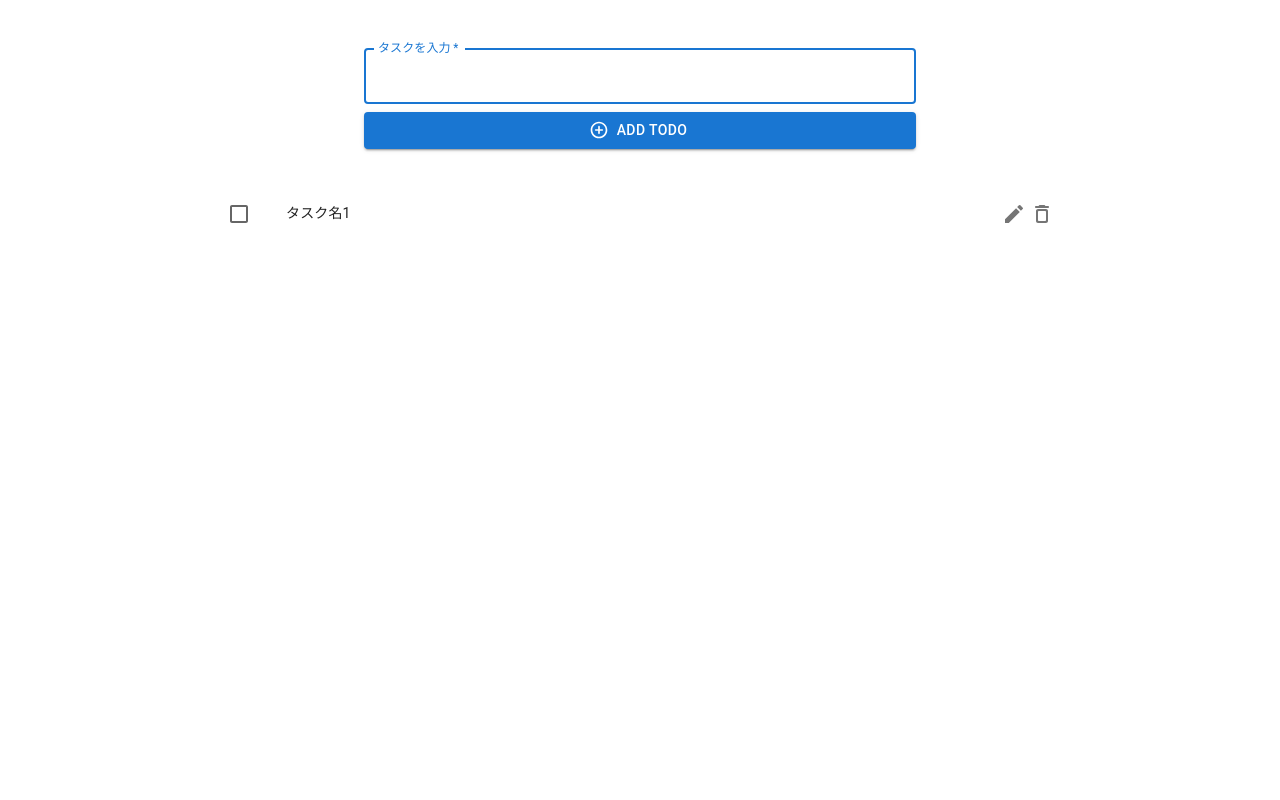
Test: <TodoList /> › タスクの更新
Expected: the text "タスク名1" is shown, 286,206 -> 351,222
Click the button named "Edit": coordinates (1014, 214) 994,194 -> 1034,234
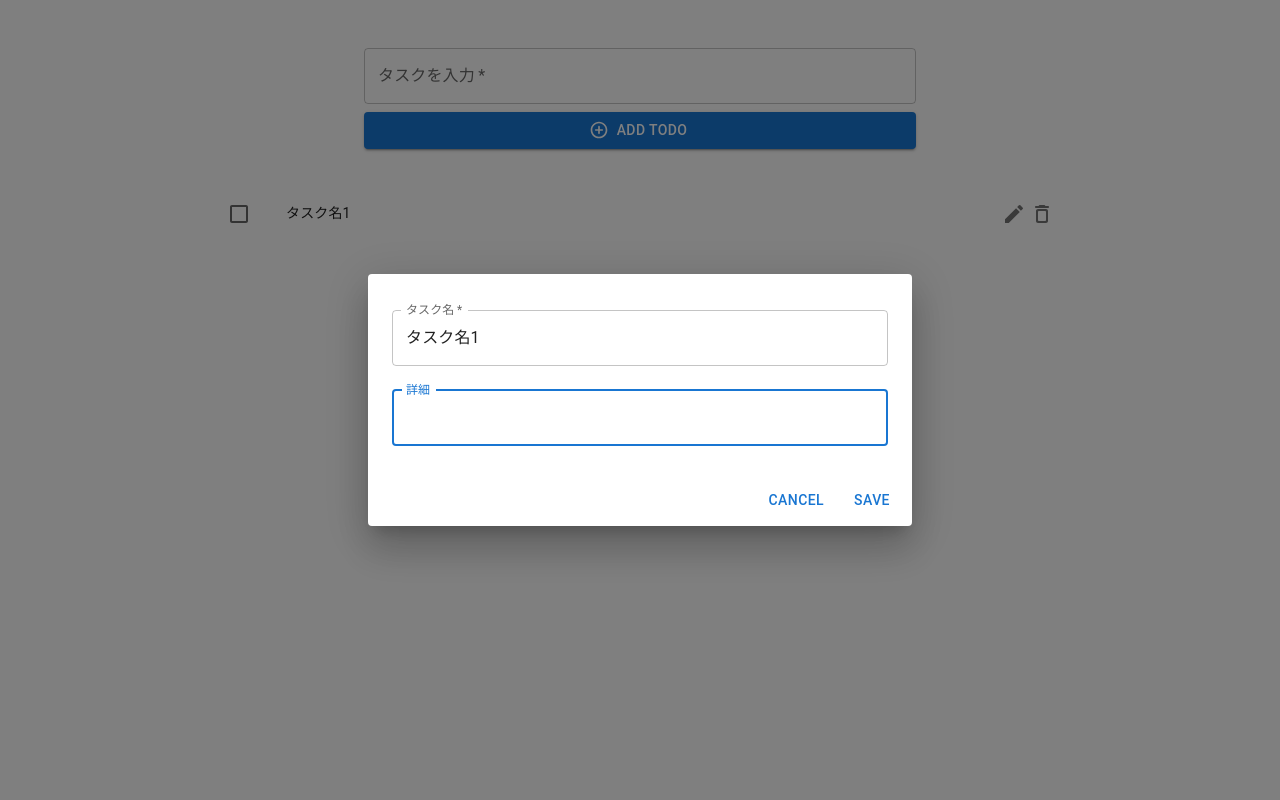
In the field labelled "詳細": coordinates (640, 418) 392,390 -> 888,446, type "タスク詳細1"
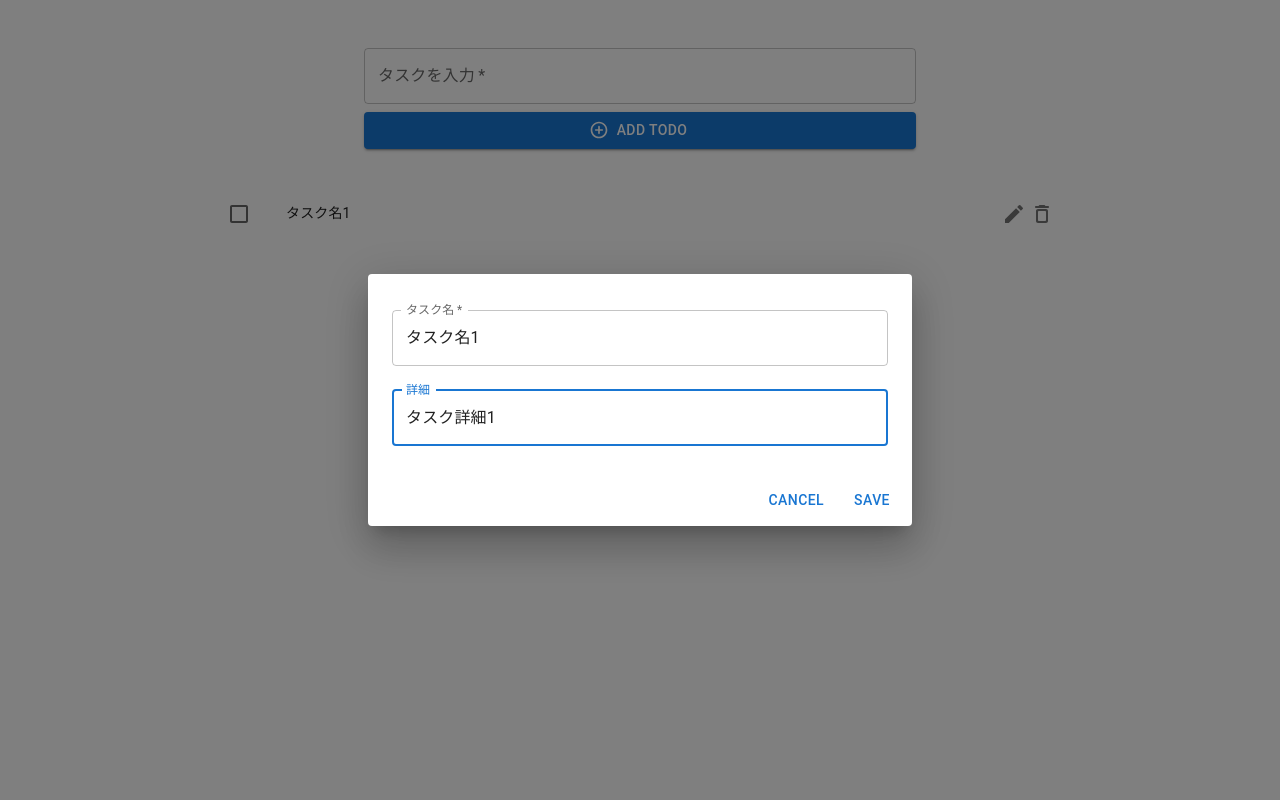
Click the button "Save": coordinates (872, 500) 840,482 -> 904,518
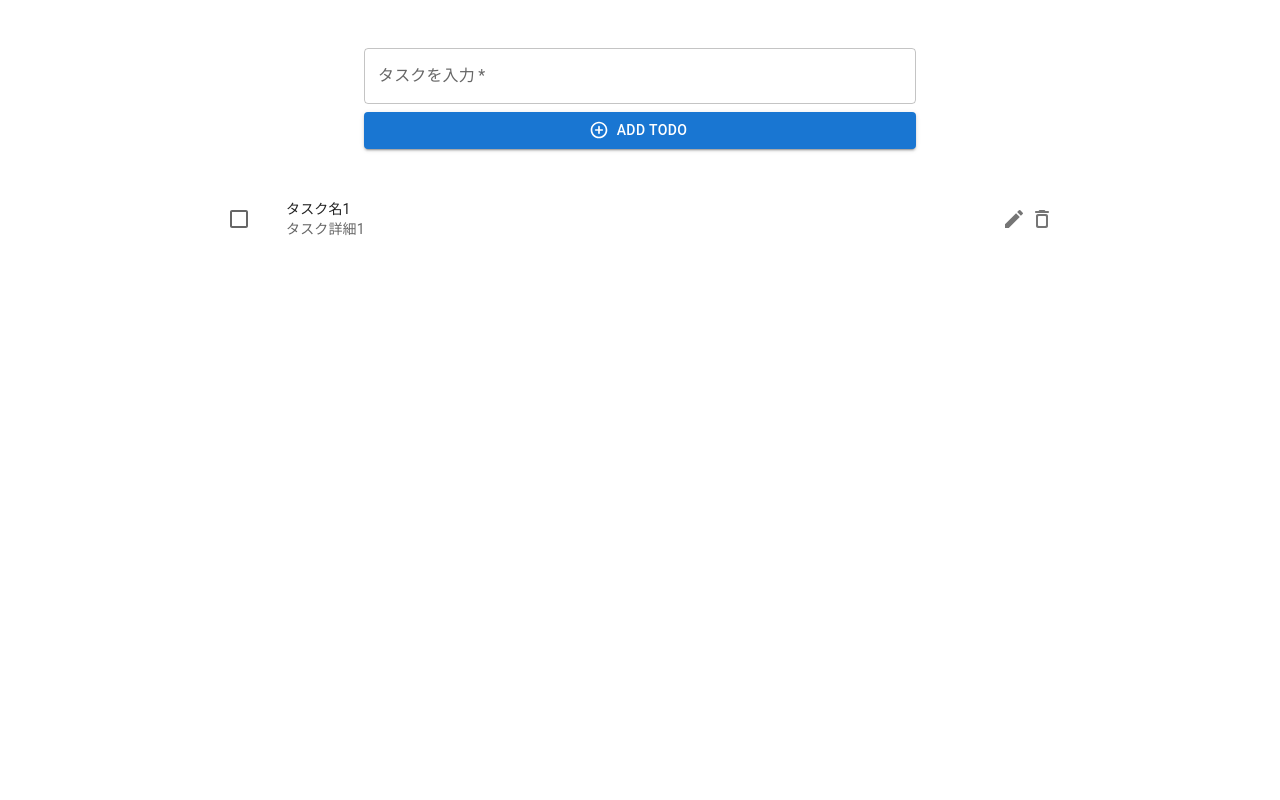
Expected: the button "Save" is gone
Expected: the text "タスク詳細1" is shown, 286,220 -> 365,236
